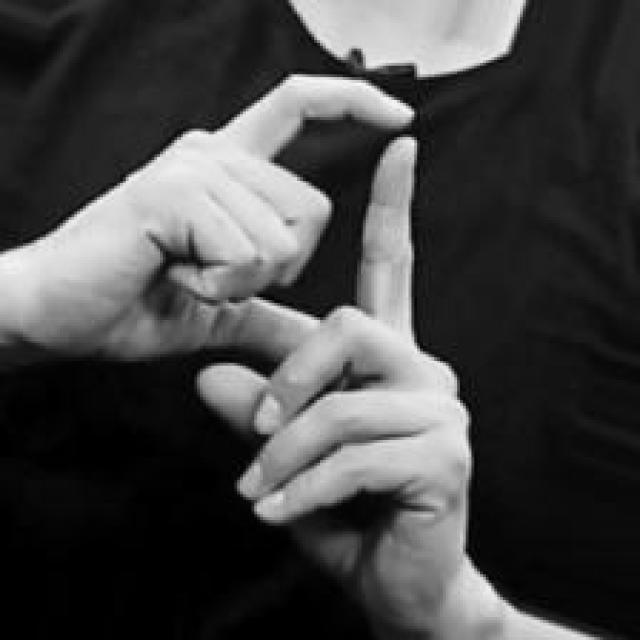D: (35, 67, 472, 622)
